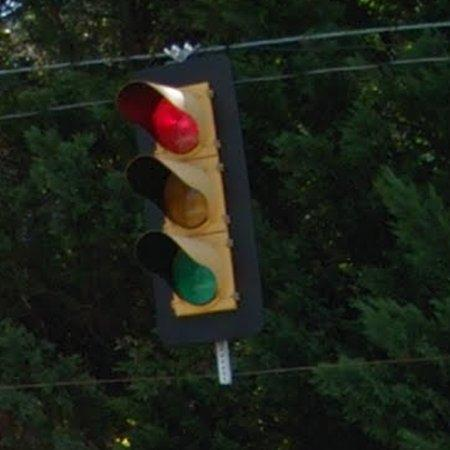traffic lights: (114, 51, 266, 346)
